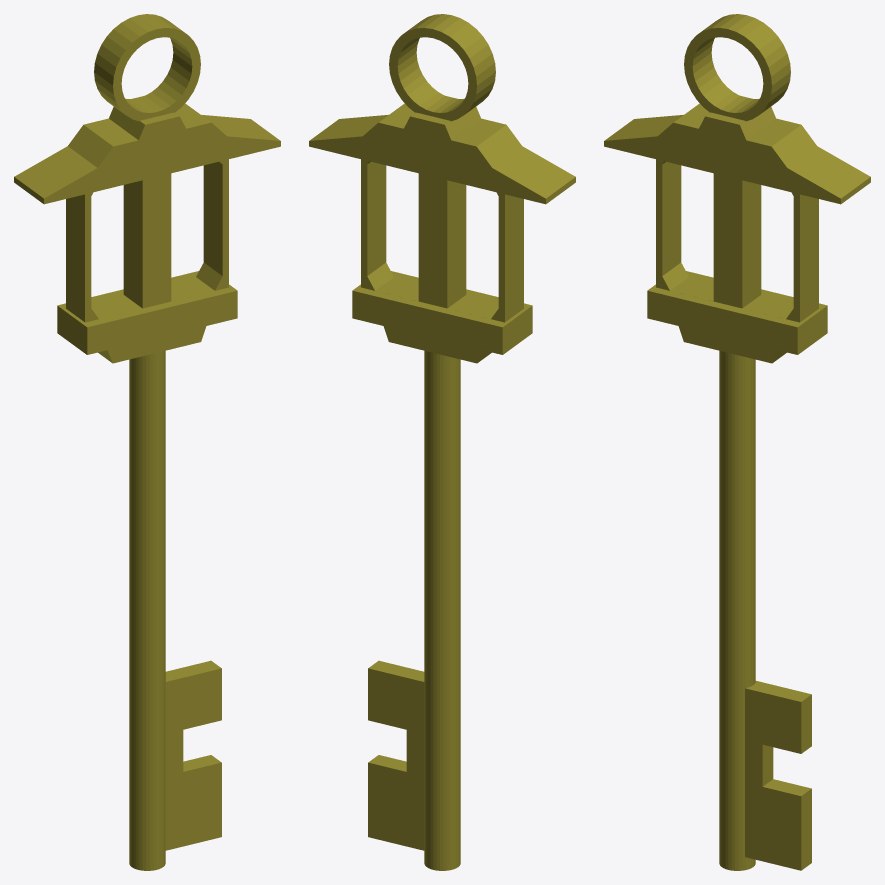
Rendered from key.obj.
3 views of the same model, side by side, from view 1: azimuth 30°, elevation 25°; view 2: azimuth 150°, elevation 25°; view 3: azimuth 330°, elevation 25° (orthographic).
Parts seen in each view (by area): view 1: 立方体_立方体.001; view 2: 立方体_立方体.001; view 3: 立方体_立方体.001.
Boxes of the visible parts, <box> form: 立方体_立方体.001: <box>14,14,280,870</box>; 立方体_立方体.001: <box>309,14,575,870</box>; 立方体_立方体.001: <box>604,14,870,870</box>.
Size of the model in its own units: 0.8923 by 3.03 by 0.1952.
Materials: 1 (1 with a texture image).
